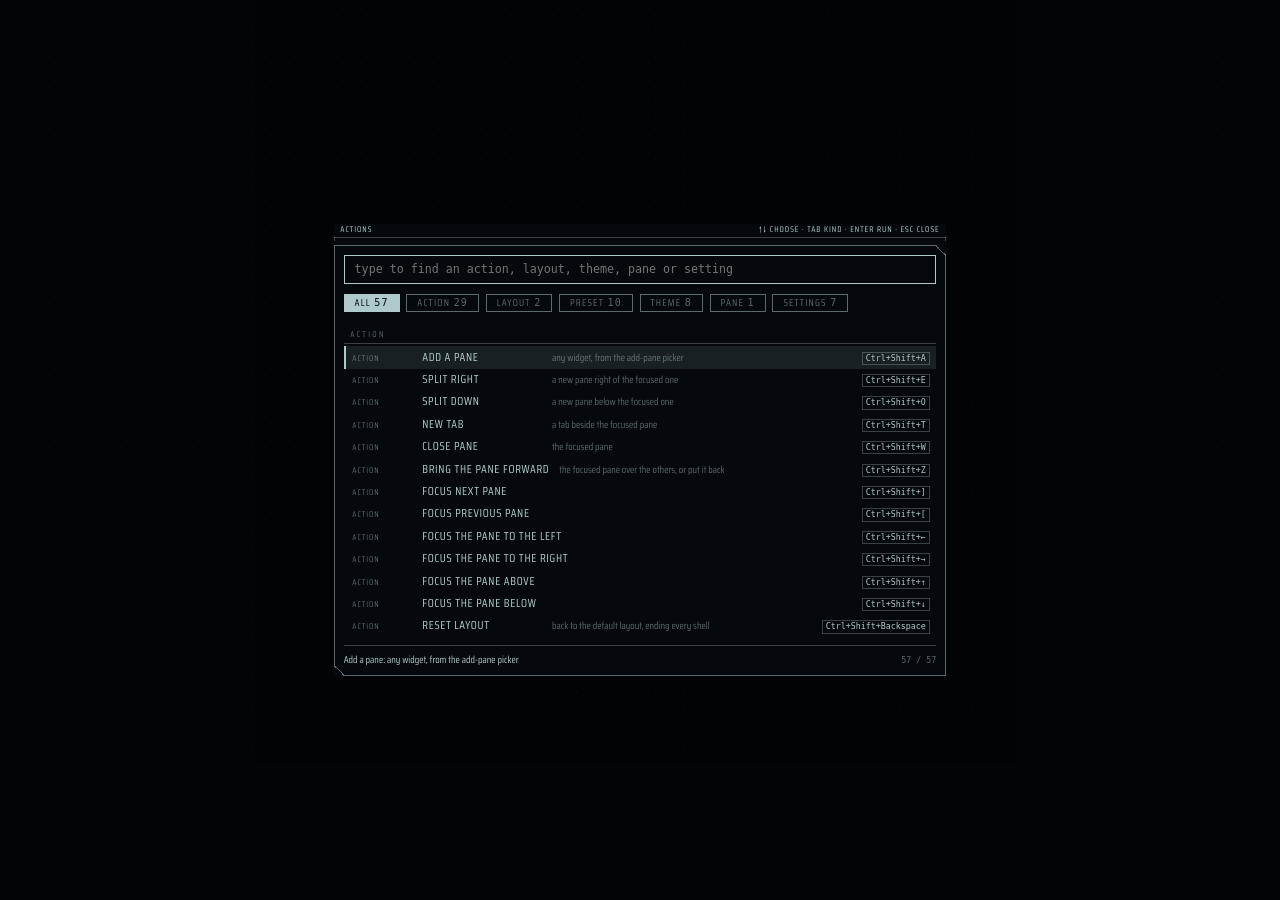
Scenario: running › remembers what ran, at the top next time
In the field with test id "action-palette-filter": (640, 269) [344, 255, 936, 284], type "split down"
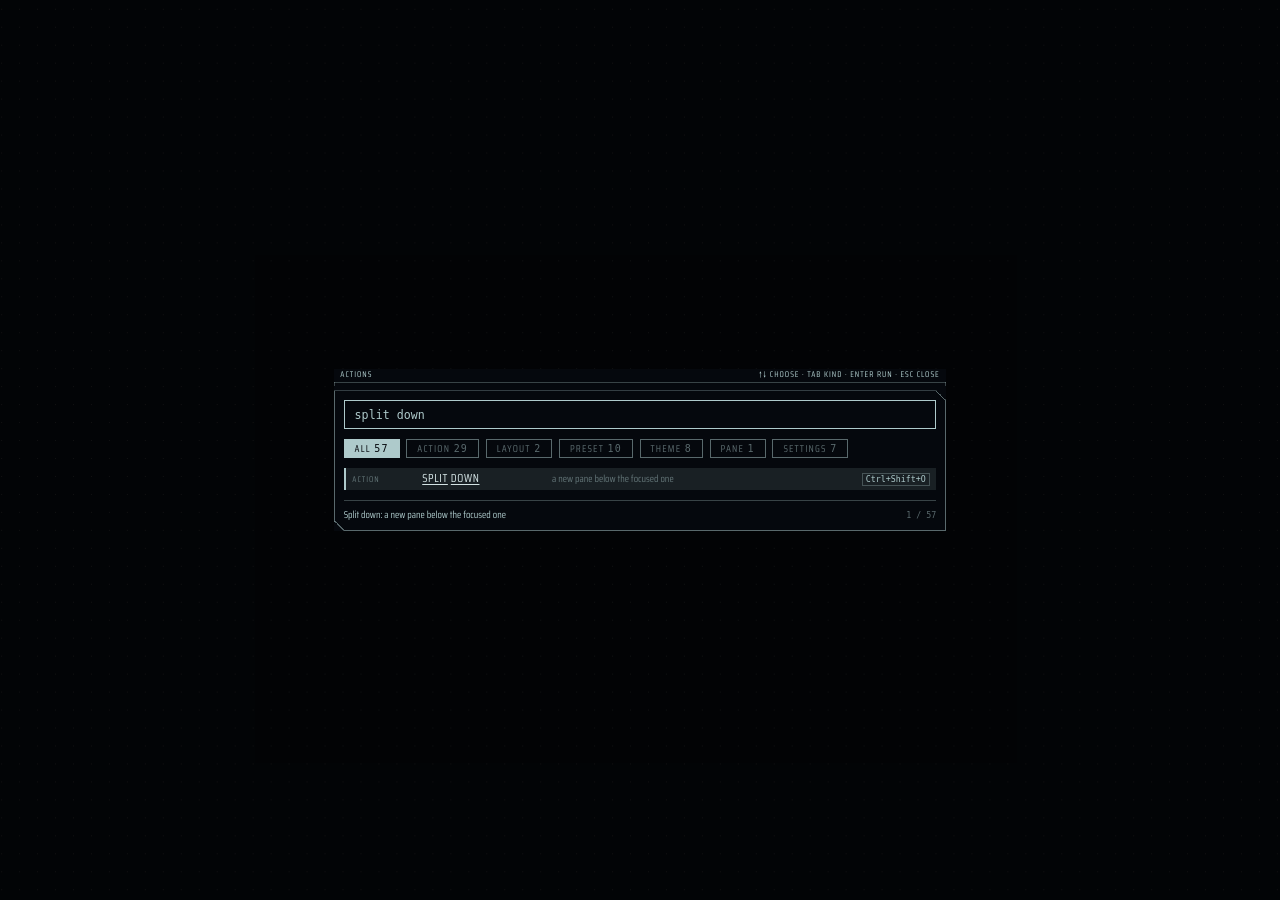
Press Enter in the field with test id "action-palette-filter", box [344, 400, 936, 429]
(page scrolled)
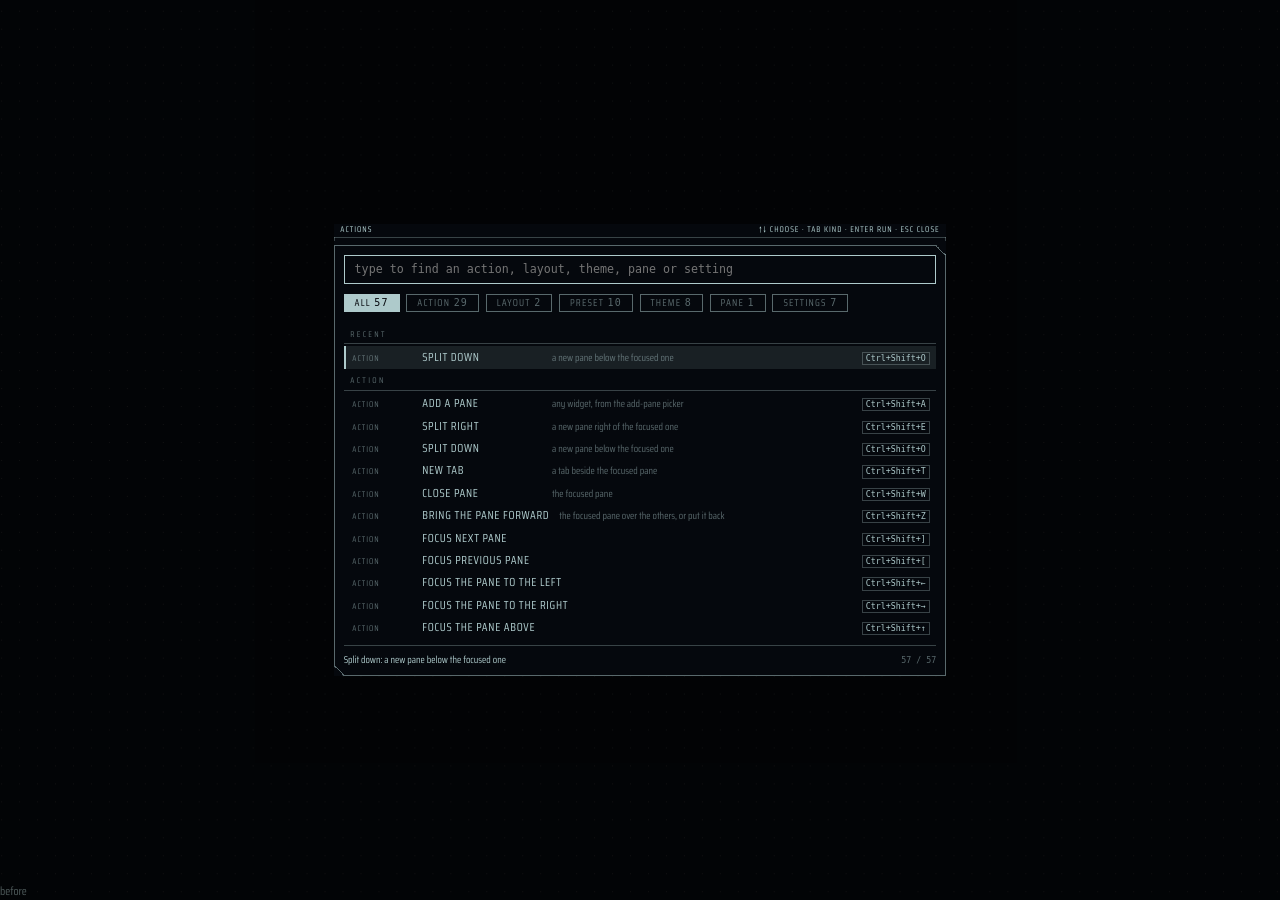
Result: the list item with test id "action-palette-heading" reads "recent" at [350, 328, 387, 341]
